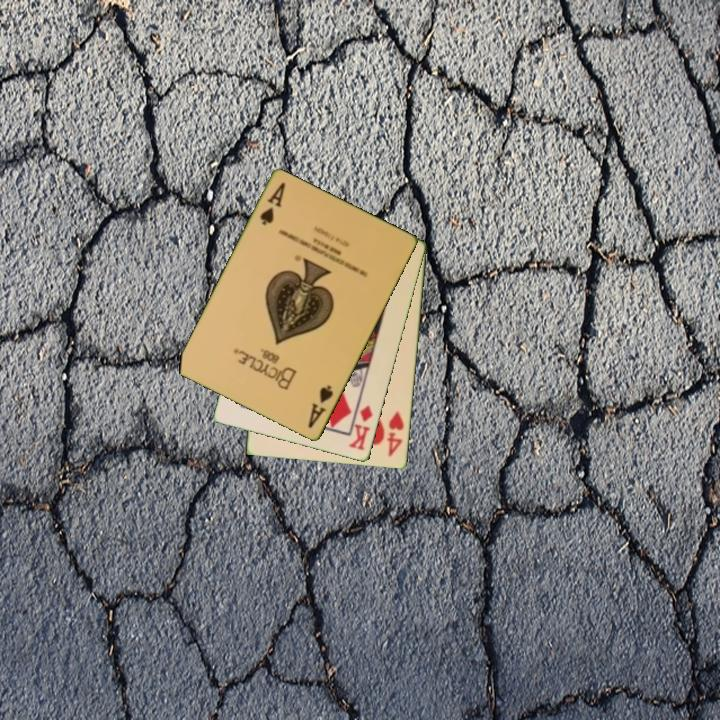4h: (384, 408, 407, 460)
As: (256, 179, 288, 229), (304, 382, 336, 431)
Kd: (345, 402, 376, 454)
